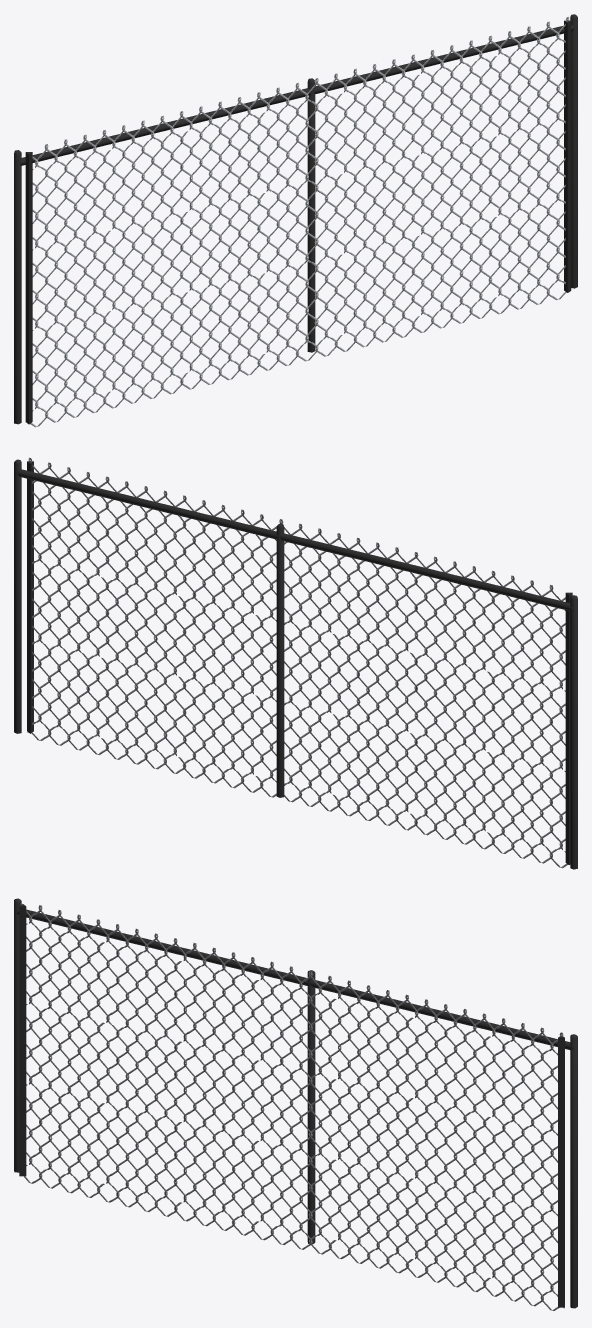
File: Fence_Chain2.FBX
The picture shows the model from 3 angles, top to bottom: view 1: azimuth 30°, elevation 25°; view 2: azimuth 150°, elevation 25°; view 3: azimuth 330°, elevation 25°; orthographic projection.
Visible parts, largest first — view 1: Plane005, Cylinder014, Cylinder011, Cylinder009, Cylinder018, Cylinder015, Cylinder017; view 2: Plane005, Cylinder014, Cylinder015, Cylinder011, Cylinder017, Cylinder018, Cylinder009; view 3: Plane005, Cylinder014, Cylinder017, Cylinder009, Cylinder015, Cylinder018, Cylinder011.
Part boxes in pixels (x1,y1,x2,y2): Plane005: (30, 17, 570, 427); Cylinder014: (20, 25, 576, 165); Cylinder011: (14, 150, 21, 424); Cylinder009: (25, 152, 32, 424); Cylinder018: (564, 20, 571, 292); Cylinder015: (307, 78, 315, 352); Cylinder017: (570, 14, 577, 288); Plane005: (27, 457, 567, 868); Cylinder014: (15, 469, 571, 610); Cylinder015: (276, 523, 284, 797); Cylinder011: (570, 595, 577, 869); Cylinder017: (14, 459, 21, 733); Cylinder018: (27, 461, 33, 733); Cylinder009: (565, 592, 572, 864); Plane005: (24, 905, 564, 1310); Cylinder014: (17, 909, 573, 1050); Cylinder017: (570, 1034, 577, 1308); Cylinder009: (19, 904, 26, 1176); Cylinder015: (307, 970, 315, 1244); Cylinder018: (558, 1036, 564, 1307); Cylinder011: (14, 898, 21, 1172).
Size of the model in its own units: 242 by 115 by 5.15.
2 materials, 1 textured.
